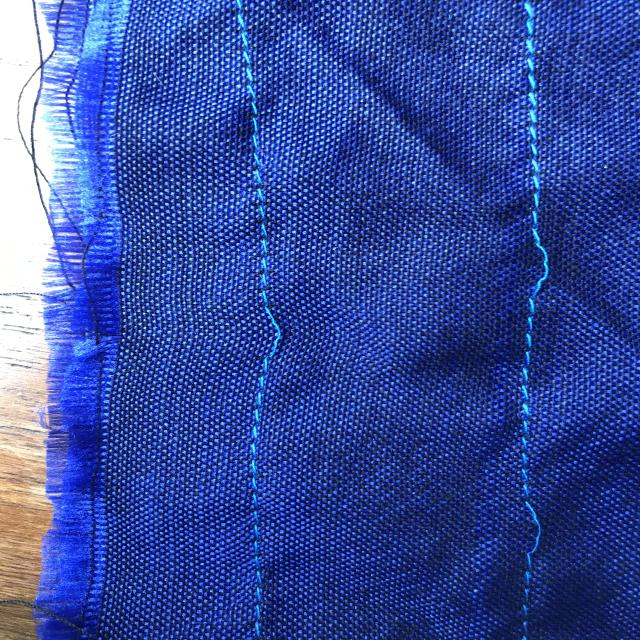skip: (506, 220, 579, 313), (499, 489, 574, 577), (244, 289, 313, 378)
